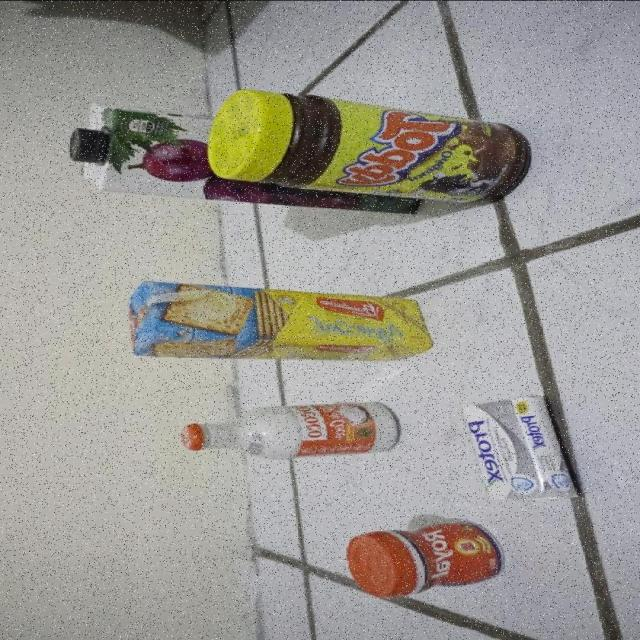ChocolatePowder: (205, 87, 536, 205)
CoconutMilk: (182, 402, 400, 461)
Cracker: (125, 280, 434, 362)
Soap: (460, 396, 584, 502)
Yeast: (346, 522, 503, 599)
